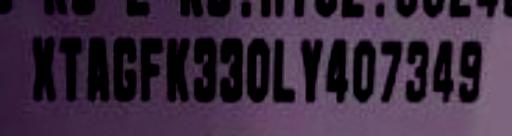letter: (134, 33, 166, 101), (161, 33, 191, 103), (214, 35, 246, 99), (454, 37, 486, 101), (270, 35, 300, 103), (348, 37, 378, 101), (401, 37, 431, 101), (322, 35, 350, 103), (86, 35, 114, 103), (244, 35, 272, 103), (30, 35, 58, 101), (376, 35, 402, 106), (428, 38, 456, 103), (112, 33, 138, 101), (298, 35, 324, 103), (192, 33, 216, 101), (58, 35, 82, 101)
